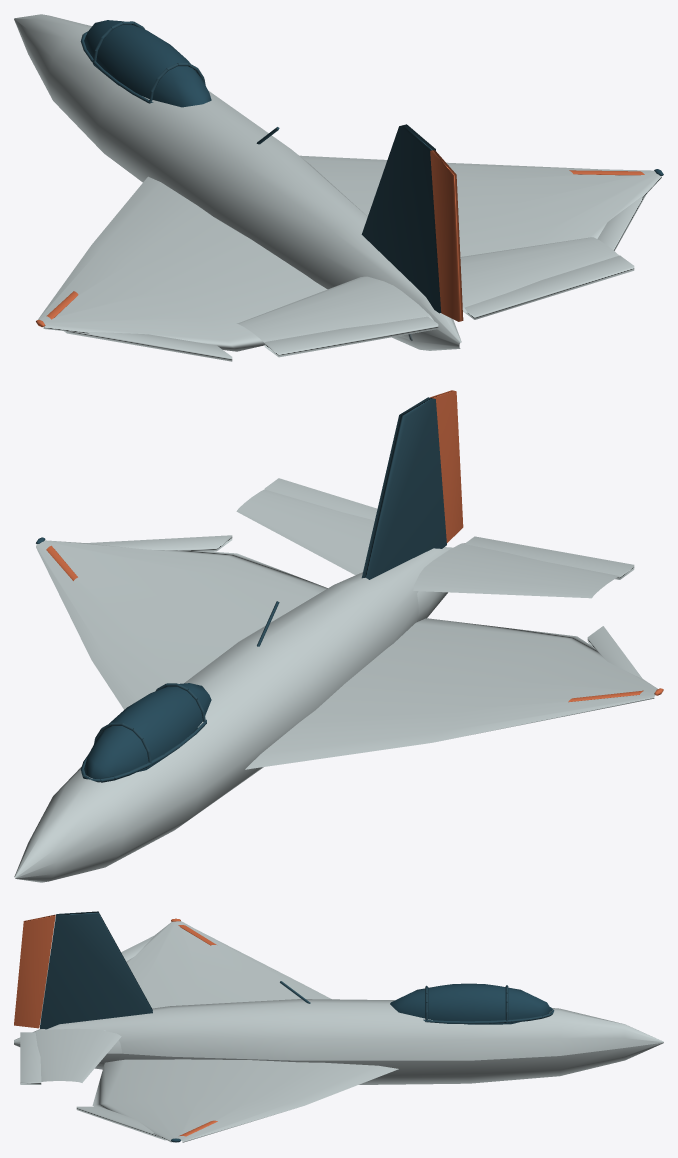
The model's file is player-dart-mobile-v1.glb.
3 views of the same model, one above another, from view 1: azimuth 30°, elevation 25°; view 2: azimuth 150°, elevation 25°; view 3: azimuth 270°, elevation 25° (orthographic). The views are drawn at different scales.
Visible parts, largest first — view 1: hull, trim, glass, rudder, elevator-right, elevator-left, aileron-left, aileron-right, accent; view 2: hull, trim, glass, rudder, elevator-left, elevator-right, aileron-right, aileron-left; view 3: hull, trim, glass, rudder, elevator-right, aileron-right, accent.
Part boxes in pixels (left/top/right/bottom): hull: left=14, top=14, right=661, bottom=351; trim: left=80, top=21, right=441, bottom=313; glass: left=84, top=20, right=663, bottom=175; rudder: left=430, top=150, right=463, bottom=321; elevator-right: left=463, top=255, right=634, bottom=319; elevator-left: left=264, top=316, right=438, bottom=357; aileron-left: left=64, top=331, right=232, bottom=361; aileron-right: left=597, top=194, right=646, bottom=250; accent: left=36, top=170, right=644, bottom=327; hull: left=14, top=489, right=657, bottom=882; trim: left=80, top=397, right=446, bottom=782; glass: left=36, top=537, right=211, bottom=778; rudder: left=430, top=390, right=463, bottom=542; elevator-left: left=465, top=536, right=634, bottom=579; elevator-right: left=264, top=478, right=377, bottom=520; aileron-right: left=85, top=535, right=232, bottom=551; aileron-left: left=587, top=626, right=642, bottom=678; hull: left=14, top=921, right=663, bottom=1142; trim: left=40, top=911, right=554, bottom=1029; glass: left=171, top=983, right=551, bottom=1142; rudder: left=14, top=914, right=55, bottom=1028; elevator-right: left=20, top=1032, right=41, bottom=1084; aileron-right: left=76, top=1106, right=166, bottom=1140; accent: left=171, top=918, right=217, bottom=1136.
Size of the model in its own units: 9.7 by 3.44 by 12.
